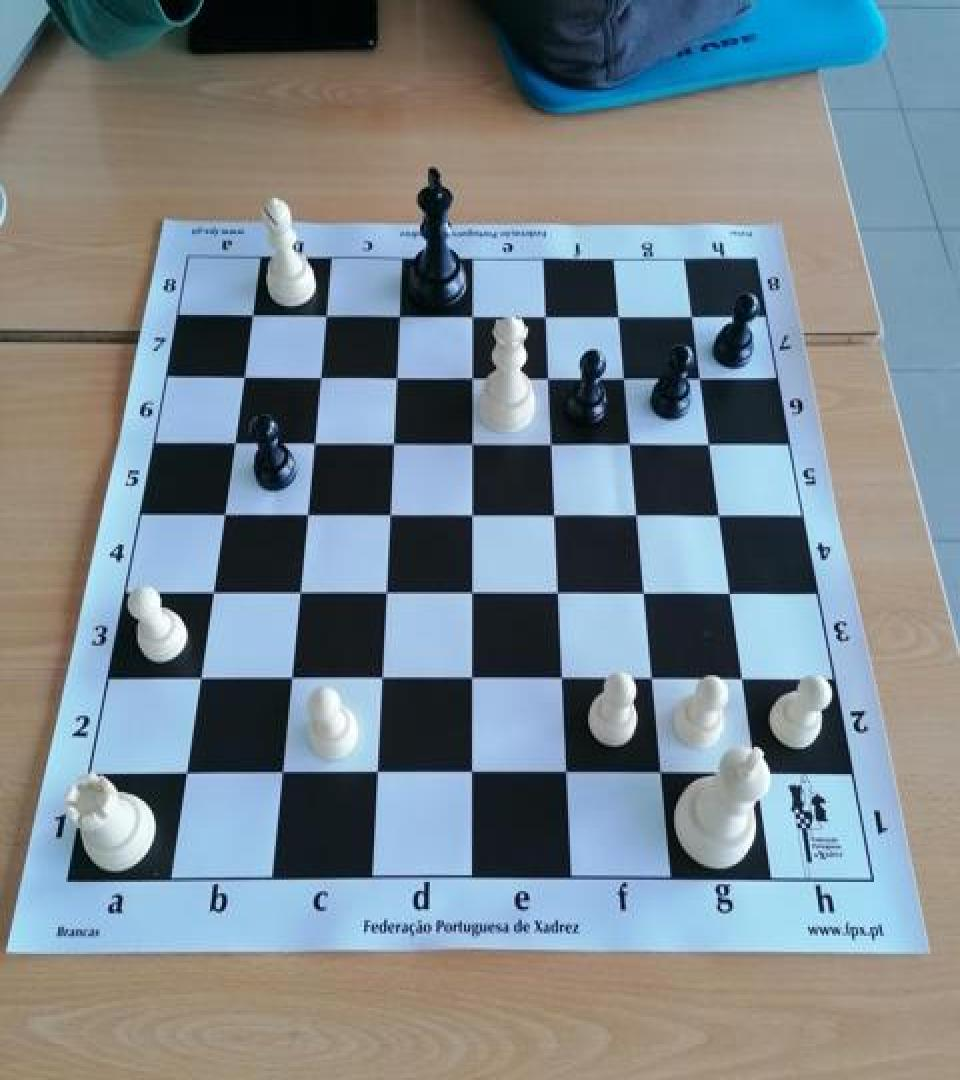xcorner: (237, 295, 271, 333), (228, 356, 262, 394), (218, 422, 252, 460), (208, 494, 242, 532), (196, 573, 230, 611), (183, 660, 217, 698), (169, 755, 203, 793), (311, 295, 345, 333), (305, 357, 339, 395), (298, 422, 332, 460), (291, 495, 325, 533), (283, 574, 317, 612), (275, 660, 309, 698), (265, 755, 299, 793), (384, 296, 418, 334), (381, 357, 415, 395), (378, 423, 412, 461), (374, 495, 408, 533), (370, 574, 404, 612), (366, 660, 400, 698), (361, 755, 395, 793), (457, 296, 491, 334), (457, 357, 491, 395), (457, 423, 491, 461), (457, 495, 491, 533), (457, 574, 491, 612), (457, 660, 491, 698), (457, 755, 491, 793), (530, 297, 564, 335), (533, 358, 567, 396), (536, 424, 570, 462), (540, 496, 574, 534), (543, 574, 577, 612), (547, 660, 581, 698), (552, 755, 586, 793), (603, 297, 637, 335), (609, 358, 643, 396), (615, 424, 649, 462), (622, 496, 656, 534), (630, 575, 664, 613), (638, 660, 672, 698), (647, 755, 681, 793), (676, 297, 710, 335), (685, 359, 719, 397), (694, 424, 728, 462), (705, 496, 739, 534), (716, 575, 750, 613), (728, 660, 762, 698), (742, 756, 776, 794)
